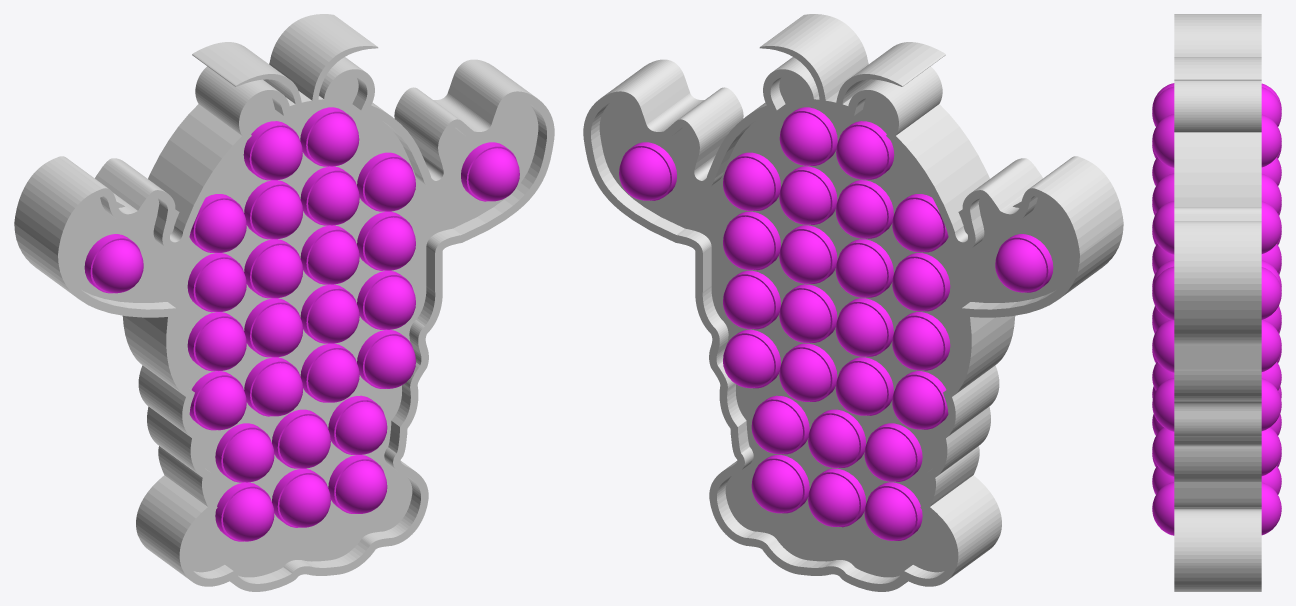
The picture shows the model from 3 angles, left to right: view 1: azimuth 30°, elevation 25°; view 2: azimuth 150°, elevation 25°; view 3: azimuth 270°, elevation 25°; orthographic projection.
Visible parts, largest first — view 1: Extrude_2.001, Sphere.819, Sphere.815, Sphere.824, Sphere.811, Sphere.807, Sphere.827, Sphere.821, Sphere.822, Sphere.825, Sphere.803, Sphere.806 (+15 smaller); view 2: Extrude_2.001, Sphere.781, Sphere.787, Sphere.782, Sphere.783, Sphere.785, Sphere.797, Sphere.802, Sphere.791, Sphere.777, Sphere.779, Sphere.799 (+15 smaller); view 3: Extrude_2.001, Sphere.804, Sphere.826, Sphere.808, Sphere.820, Sphere.816, Sphere.827, Sphere.823, Sphere.778, Sphere.800, Sphere.782, Sphere.794 (+17 smaller).
Boxes of the visible parts, <box> form: Extrude_2.001: <box>14,14,554,591</box>; Sphere.819: <box>308,349,359,402</box>; Sphere.815: <box>308,290,359,343</box>; Sphere.824: <box>223,488,274,541</box>; Sphere.811: <box>308,231,359,284</box>; Sphere.807: <box>308,172,359,225</box>; Sphere.827: <box>468,148,519,201</box>; Sphere.821: <box>223,429,274,482</box>; Sphere.822: <box>279,415,330,468</box>; Sphere.825: <box>279,474,330,527</box>; Sphere.803: <box>251,127,302,180</box>; Sphere.806: <box>251,186,302,239</box>; Extrude_2.001: <box>583,14,1123,591</box>; Sphere.781: <box>779,171,830,224</box>; Sphere.787: <box>892,317,943,370</box>; Sphere.782: <box>723,157,774,210</box>; Sphere.783: <box>892,258,943,311</box>; Sphere.785: <box>779,230,830,283</box>; Sphere.797: <box>808,414,859,467</box>; Sphere.802: <box>995,239,1046,292</box>; Sphere.791: <box>892,376,943,429</box>; Sphere.777: <box>836,126,887,179</box>; Sphere.779: <box>892,199,943,252</box>; Sphere.799: <box>808,473,859,526</box>; Extrude_2.001: <box>1174,14,1261,591</box>; Sphere.804: <box>1152,114,1174,167</box>; Sphere.826: <box>1152,482,1174,535</box>; Sphere.808: <box>1152,201,1174,254</box>; Sphere.820: <box>1152,378,1174,431</box>; Sphere.816: <box>1152,319,1174,372</box>; Sphere.827: <box>1152,266,1174,320</box>; Sphere.823: <box>1152,427,1174,476</box>; Sphere.778: <box>1261,114,1281,167</box>; Sphere.800: <box>1261,482,1281,535</box>; Sphere.782: <box>1261,201,1281,253</box>; Sphere.794: <box>1261,378,1281,430</box>.
Bounding box in the file's own units: 19.26 × 19.41 × 4.36.
